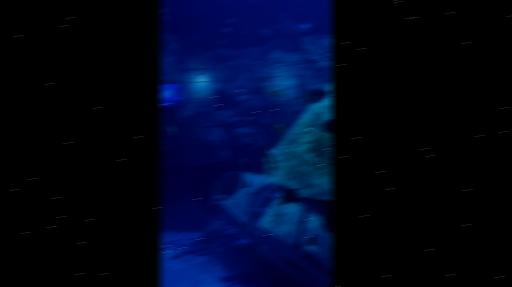Fish: (281, 186, 332, 233), (281, 13, 313, 35), (281, 186, 301, 204), (305, 88, 329, 102), (160, 89, 180, 105), (210, 194, 230, 203), (265, 146, 273, 162), (324, 119, 332, 133), (259, 28, 270, 36), (307, 234, 315, 245), (244, 136, 252, 143), (279, 123, 284, 134), (170, 124, 175, 134), (161, 8, 167, 14), (163, 15, 169, 20), (248, 116, 254, 121), (244, 29, 249, 35), (224, 28, 230, 32), (241, 158, 247, 162), (171, 44, 175, 49), (196, 127, 200, 132), (228, 20, 234, 23), (273, 26, 279, 29), (262, 83, 266, 87), (159, 128, 163, 131), (219, 41, 225, 43)
